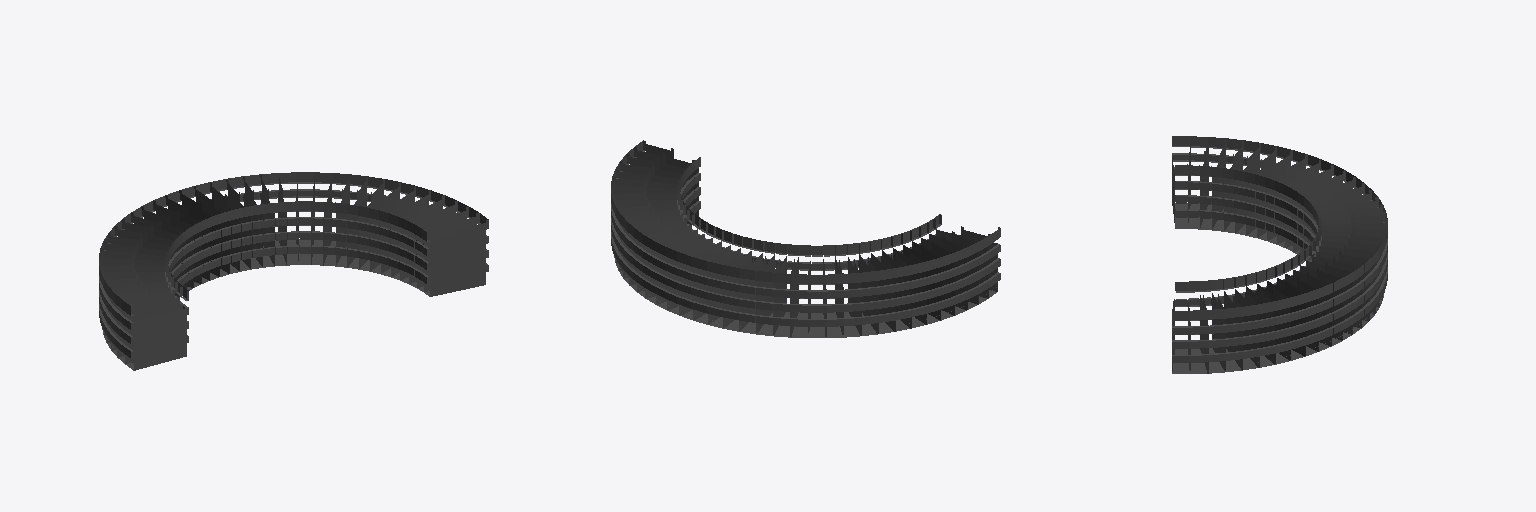
Rendered from demilune_batiment.obj.
The picture shows the model from 3 angles: view 1: azimuth 30°, elevation 25°; view 2: azimuth 150°, elevation 25°; view 3: azimuth 270°, elevation 25°; orthographic projection.
Visible parts, largest first — view 1: demi_lune.003_Cube.003; view 2: demi_lune.003_Cube.003; view 3: demi_lune.003_Cube.003.
Part boxes in pixels (bbox=[...]): demi_lune.003_Cube.003: bbox=[99, 172, 488, 370]; demi_lune.003_Cube.003: bbox=[611, 140, 1000, 337]; demi_lune.003_Cube.003: bbox=[1172, 136, 1387, 373].
Size of the model in its own units: 67.58 by 11.77 by 35.33.